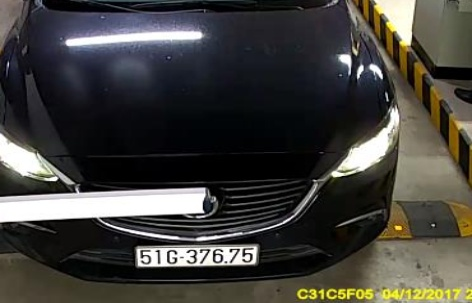plate: (128, 239, 260, 269)
